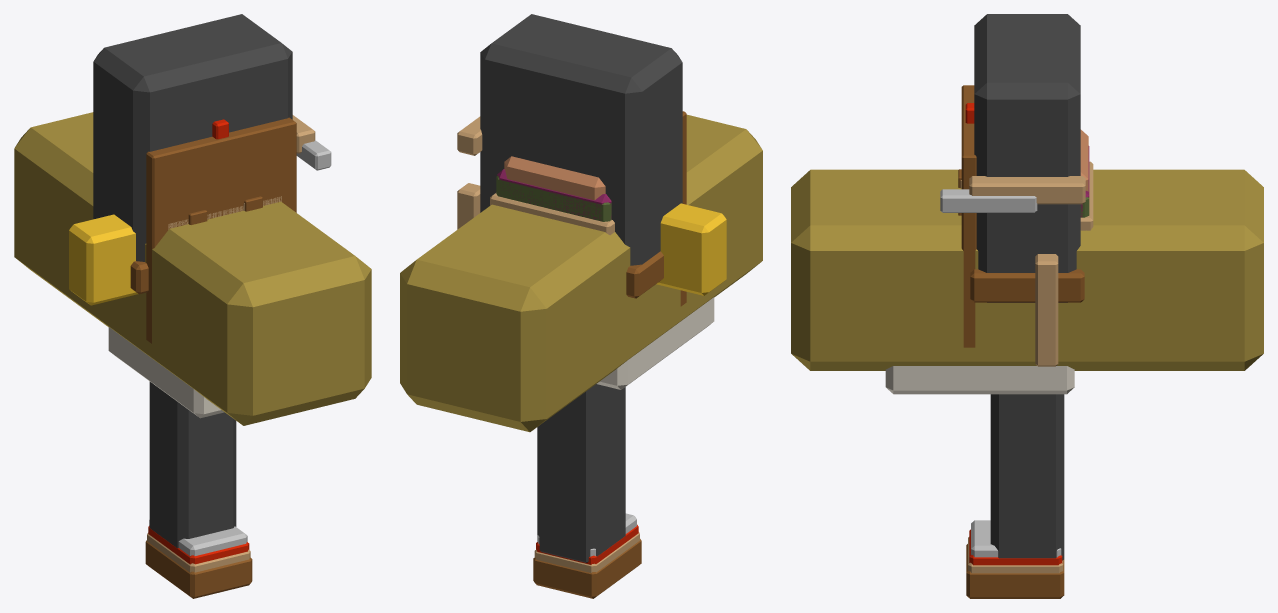
Rendered from flagship_props_001.glb.
3 renders of one model, left to right at view 1: azimuth 30°, elevation 25°; view 2: azimuth 150°, elevation 25°; view 3: azimuth 270°, elevation 25°, orthographic.
Parts seen in each view (by area): view 1: Mob_Forest_Grazer_K23_Body, Mob_Crew_Smith_Body, Mob_Crew_Smith_LegL, Mob_Crew_Smith_LegR, Mob_Crew_Merchant_Body, Mob_Crew_Lookout_LegL, Mob_Crew_Shipwright_LegL, Mob_Crew_Medic_LegL, Mob_Crew_Lookout_Body; view 2: Mob_Forest_Grazer_K23_Body, Mob_Crew_Smith_Body, Mob_Crew_Smith_LegL, Mob_Crew_Merchant_Body, Mob_Crew_Smith_LegR, Mob_Crew_Smith_Head, Mob_Crew_Lookout_Head, Mob_Crew_Navigator_Head, Mob_Crew_Shipwright_LegL, Mob_Crew_Shipwright_Body, Mob_Crew_Merchant_Head, Mob_Crew_Navigator_Body; view 3: Mob_Forest_Grazer_K23_Body, Mob_Crew_Smith_Body, Mob_Crew_Smith_LegL, Mob_Crew_Smith_LegR, Mob_Crew_Shipwright_Body, Mob_Crew_Navigator_Body, Mob_Crew_Lookout_Body, Mob_Crew_Shipwright_LegL, Mob_Crew_Medic_LegL, Mob_Crew_Lookout_LegL.
Boxes of the visible parts, left/top/right/bottom form: Mob_Forest_Grazer_K23_Body: left=14, top=112, right=371, bottom=425; Mob_Crew_Smith_Body: left=93, top=14, right=296, bottom=343; Mob_Crew_Smith_LegL: left=145, top=381, right=252, bottom=598; Mob_Crew_Smith_LegR: left=178, top=404, right=248, bottom=598; Mob_Crew_Merchant_Body: left=69, top=214, right=137, bottom=305; Mob_Crew_Lookout_LegL: left=149, top=520, right=247, bottom=555; Mob_Crew_Shipwright_LegL: left=147, top=533, right=250, bottom=572; Mob_Crew_Medic_LegL: left=148, top=526, right=249, bottom=564; Mob_Crew_Lookout_Body: left=296, top=140, right=331, bottom=170; Mob_Forest_Grazer_K23_Body: left=400, top=114, right=762, bottom=432; Mob_Crew_Smith_Body: left=480, top=14, right=686, bottom=306; Mob_Crew_Smith_LegL: left=533, top=384, right=641, bottom=598; Mob_Crew_Merchant_Body: left=656, top=203, right=726, bottom=295; Mob_Crew_Smith_LegR: left=541, top=384, right=596, bottom=562; Mob_Crew_Smith_Head: left=504, top=156, right=605, bottom=200; Mob_Crew_Lookout_Head: left=496, top=175, right=611, bottom=221; Mob_Crew_Navigator_Head: left=490, top=193, right=614, bottom=235; Mob_Crew_Shipwright_LegL: left=534, top=532, right=639, bottom=572; Mob_Crew_Shipwright_Body: left=457, top=183, right=480, bottom=229; Mob_Crew_Merchant_Head: left=497, top=169, right=611, bottom=219; Mob_Crew_Navigator_Body: left=457, top=116, right=482, bottom=155; Mob_Forest_Grazer_K23_Body: left=791, top=169, right=1263, bottom=394; Mob_Crew_Smith_Body: left=961, top=14, right=1084, bottom=347; Mob_Crew_Smith_LegL: left=966, top=394, right=1064, bottom=598; Mob_Crew_Smith_LegR: left=966, top=394, right=1064, bottom=594; Mob_Crew_Shipwright_Body: left=1035, top=254, right=1058, bottom=366; Mob_Crew_Navigator_Body: left=969, top=176, right=1085, bottom=204; Mob_Crew_Lookout_Body: left=940, top=189, right=1037, bottom=212; Mob_Crew_Shipwright_LegL: left=968, top=537, right=1063, bottom=573; Mob_Crew_Medic_LegL: left=969, top=529, right=1062, bottom=565; Mob_Crew_Lookout_LegL: left=971, top=520, right=1061, bottom=557.
Size of the model in its own units: 0.71 by 1.53 by 1.22.
